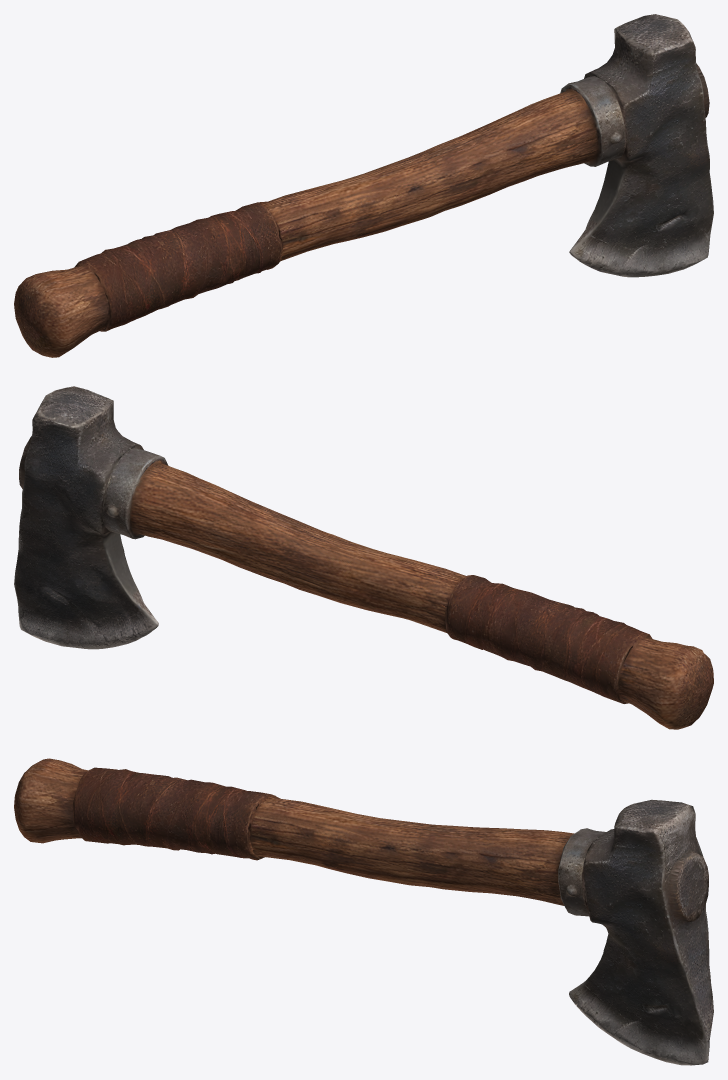
The model's file is hand axe 3d model.glb.
3 views of the same model, one above another, from view 1: azimuth 30°, elevation 25°; view 2: azimuth 150°, elevation 25°; view 3: azimuth 330°, elevation 25° (orthographic).
Visible parts, largest first — view 1: tripo_node_a072a7c3-6f72-419c-adb4-616272d6d8e1; view 2: tripo_node_a072a7c3-6f72-419c-adb4-616272d6d8e1; view 3: tripo_node_a072a7c3-6f72-419c-adb4-616272d6d8e1.
Part boxes in pixels (bbox=[...]): tripo_node_a072a7c3-6f72-419c-adb4-616272d6d8e1: bbox=[14, 14, 713, 357]; tripo_node_a072a7c3-6f72-419c-adb4-616272d6d8e1: bbox=[14, 386, 713, 729]; tripo_node_a072a7c3-6f72-419c-adb4-616272d6d8e1: bbox=[14, 758, 713, 1065].
Bounding box in the file's own units: 0.9799 × 0.3407 × 0.1159.
1 material, 1 textured.
